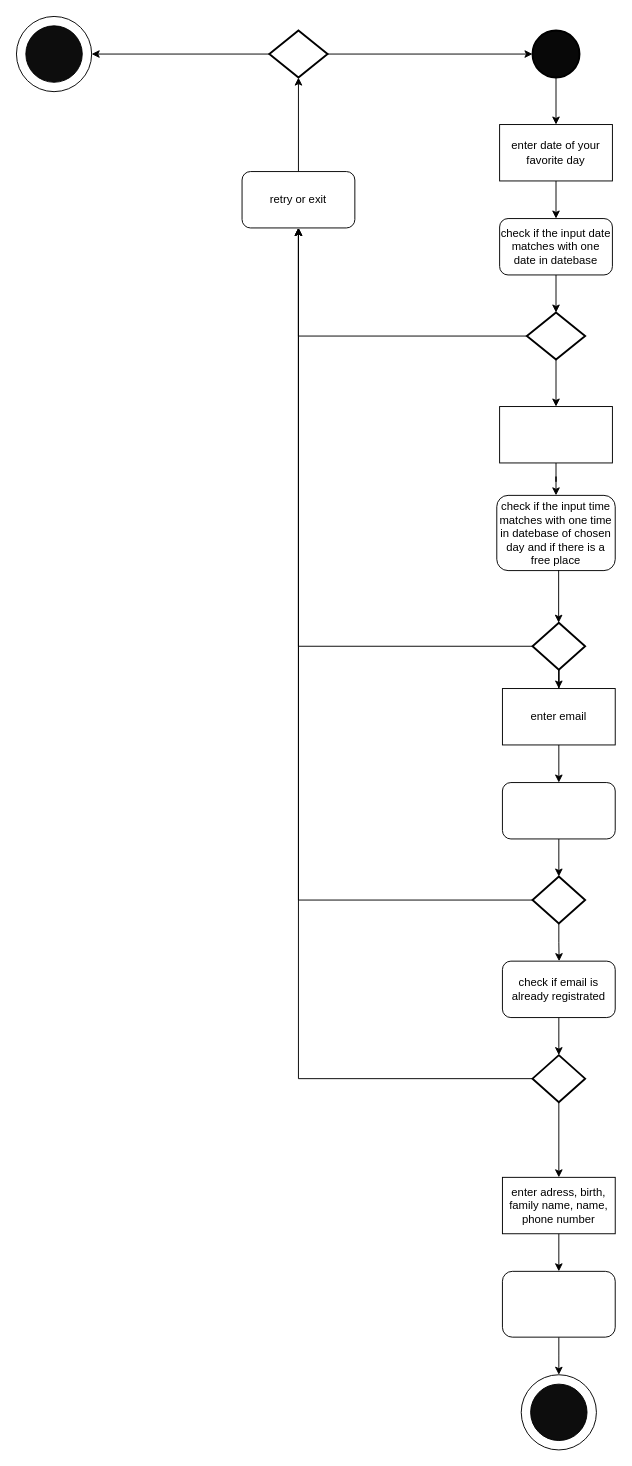
Image size: 632x1466. Some labels were removed from this diagram. Here are the shapes that lost their labels. From the top down, the centre of each, then its label:
the point at 555,434: enter favorite time of your day
the point at 558,810: check of valid email
the point at 558,1303: write informations in DB and send email to vaccinee
